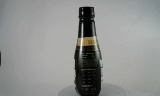appyfizz: (67, 6, 97, 95)
